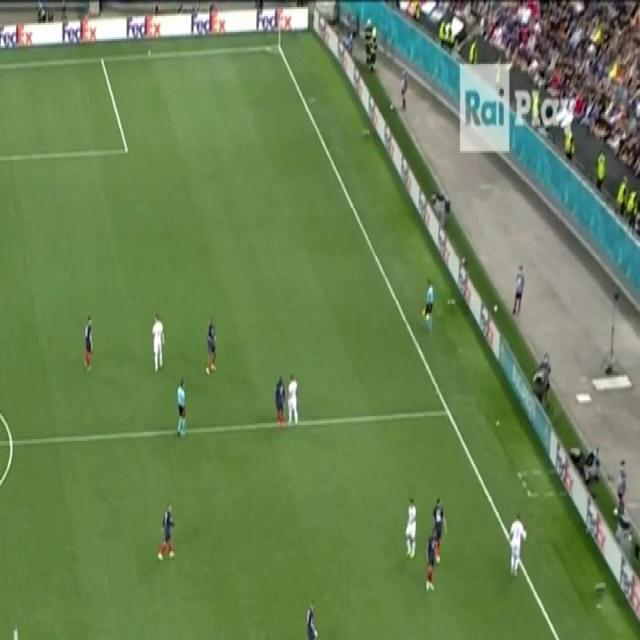ball: (520, 529, 529, 543)
player-white: (505, 507, 528, 581), (157, 499, 178, 566), (423, 525, 441, 597), (431, 495, 448, 569), (203, 310, 219, 378), (172, 374, 188, 442), (402, 493, 418, 561), (151, 311, 167, 376), (80, 312, 96, 376), (420, 275, 436, 337), (285, 370, 300, 432), (301, 595, 321, 640), (274, 368, 288, 432)
